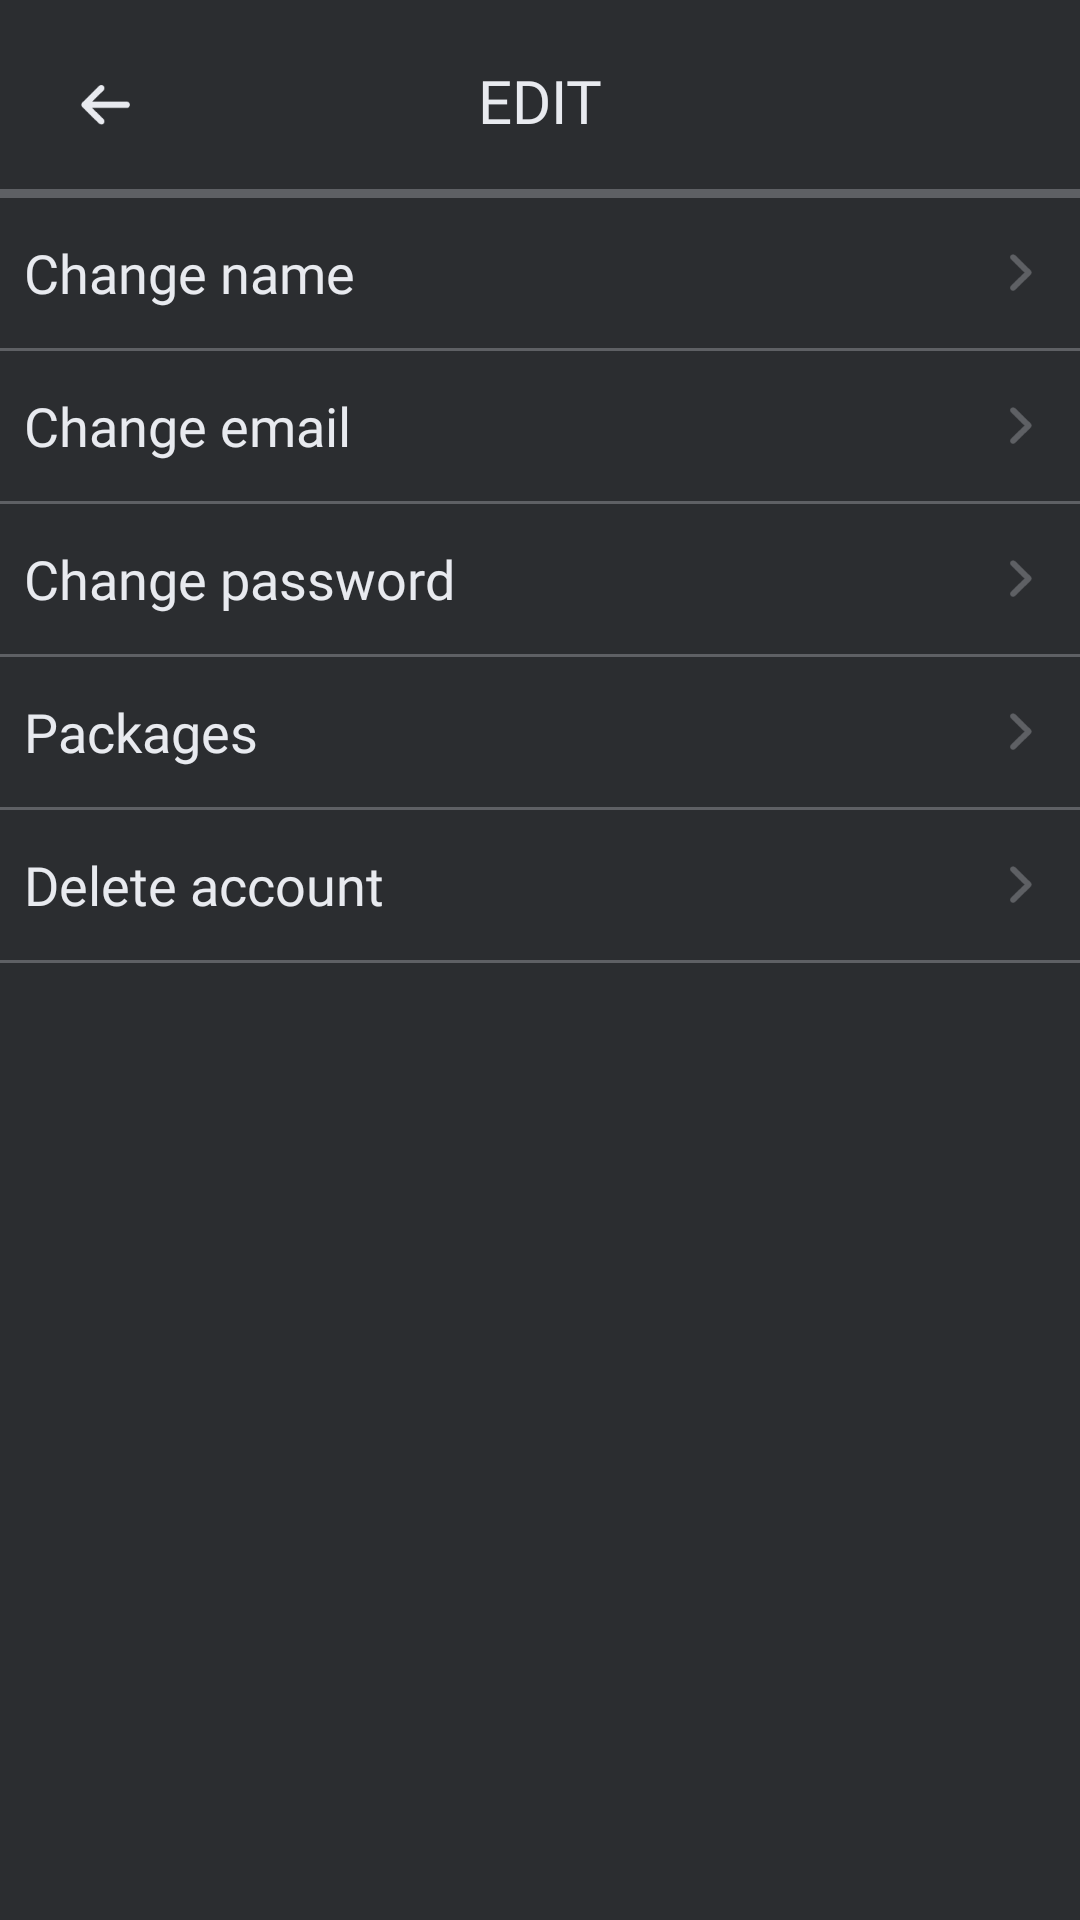

Screen size 1080px x 1920px. Icon name, then its center in pixels as point (x, y):
back: point (105, 105)
